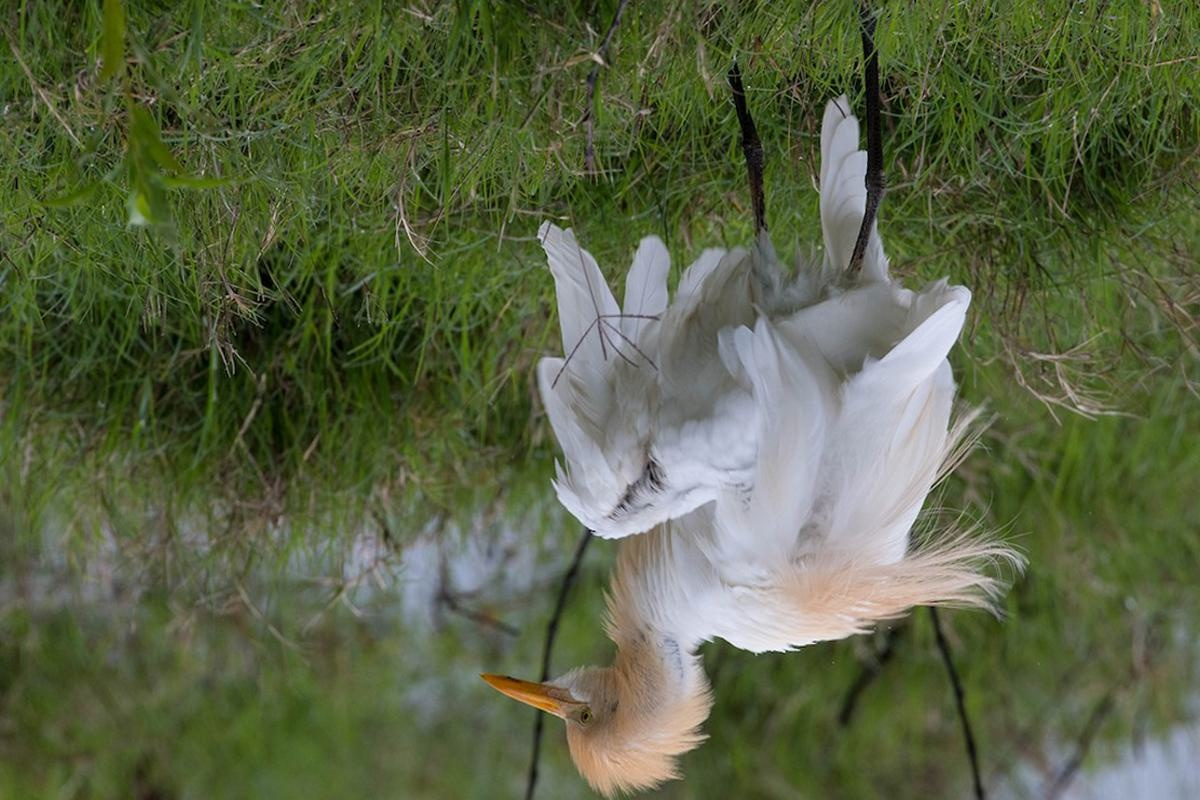egret: (488, 1, 992, 792)
